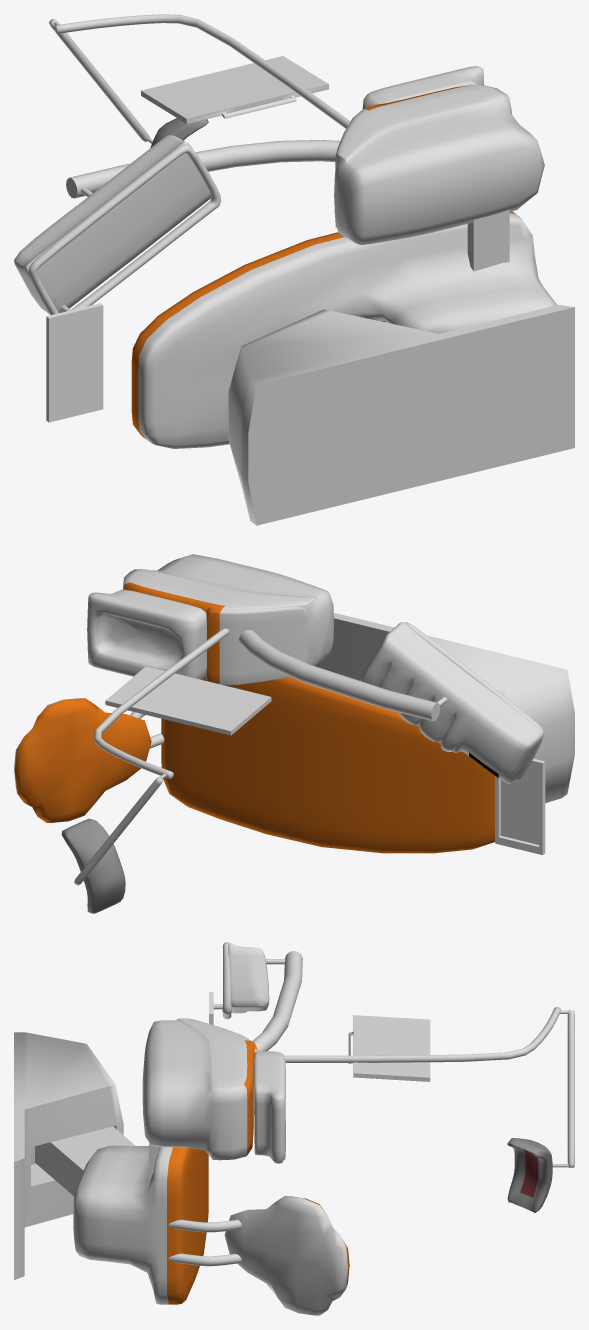
3 views of the same model, one above another, from view 1: azimuth 30°, elevation 25°; view 2: azimuth 150°, elevation 25°; view 3: azimuth 270°, elevation 25° (orthographic). The views are drawn at different scales.
Visible parts, largest first — view 1: Cube.002; view 2: Cube.002; view 3: Cube.002.
Boxes of the visible parts, box(x1,y1,x2,y2) form: Cube.002: box(14, 14, 574, 525); Cube.002: box(14, 554, 574, 913); Cube.002: box(14, 942, 574, 1315).
Size of the model in its own units: 163 by 86.53 by 177.
